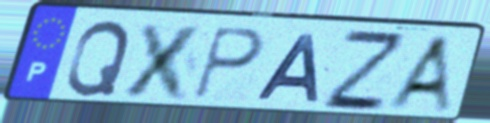A: (383, 33, 456, 116), (253, 32, 323, 105)
P: (190, 24, 267, 102)
Q: (63, 18, 134, 98)
X: (117, 20, 211, 103)
Z: (320, 26, 407, 113)
